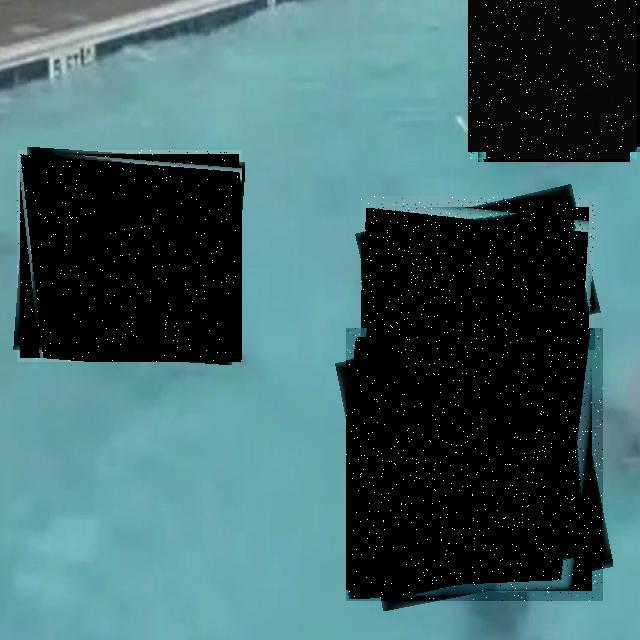swimming: (346, 328, 603, 601), (17, 150, 242, 362), (361, 196, 595, 350), (470, 0, 637, 159)
